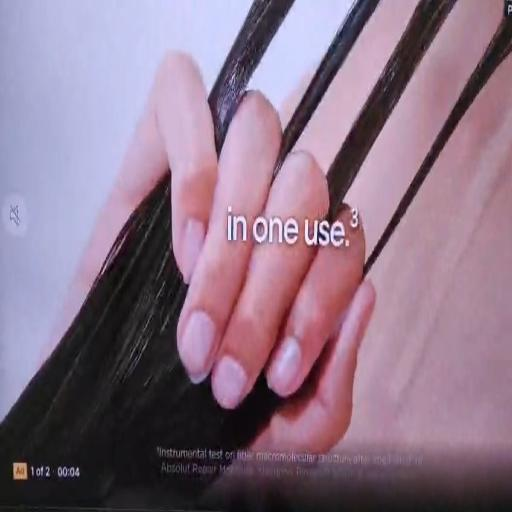ad label: (12, 456, 29, 484)
